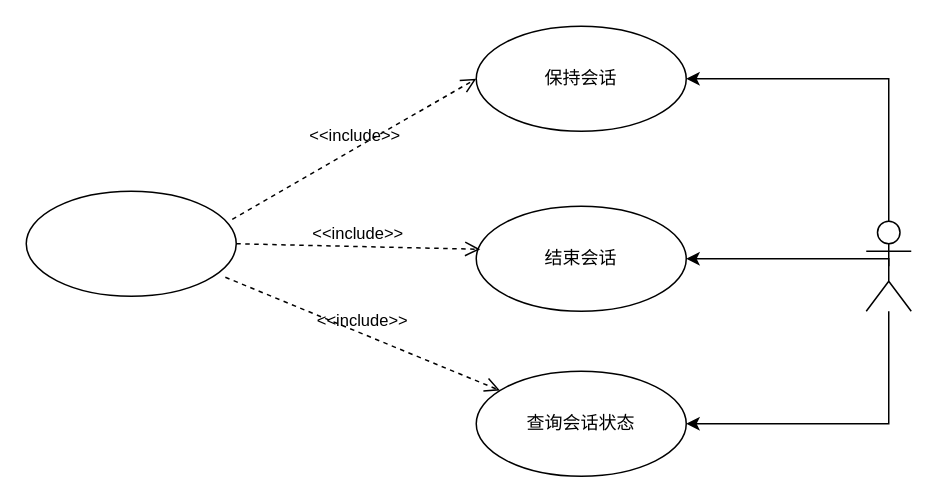
This 938x503 diagram has some shape labels left out. The shapes that lost their labels are listed below. From the top down, each one's centre as x and y in pixels, then its label:
At point 130,243: "会话维护".
At point 888,265: "用户".
